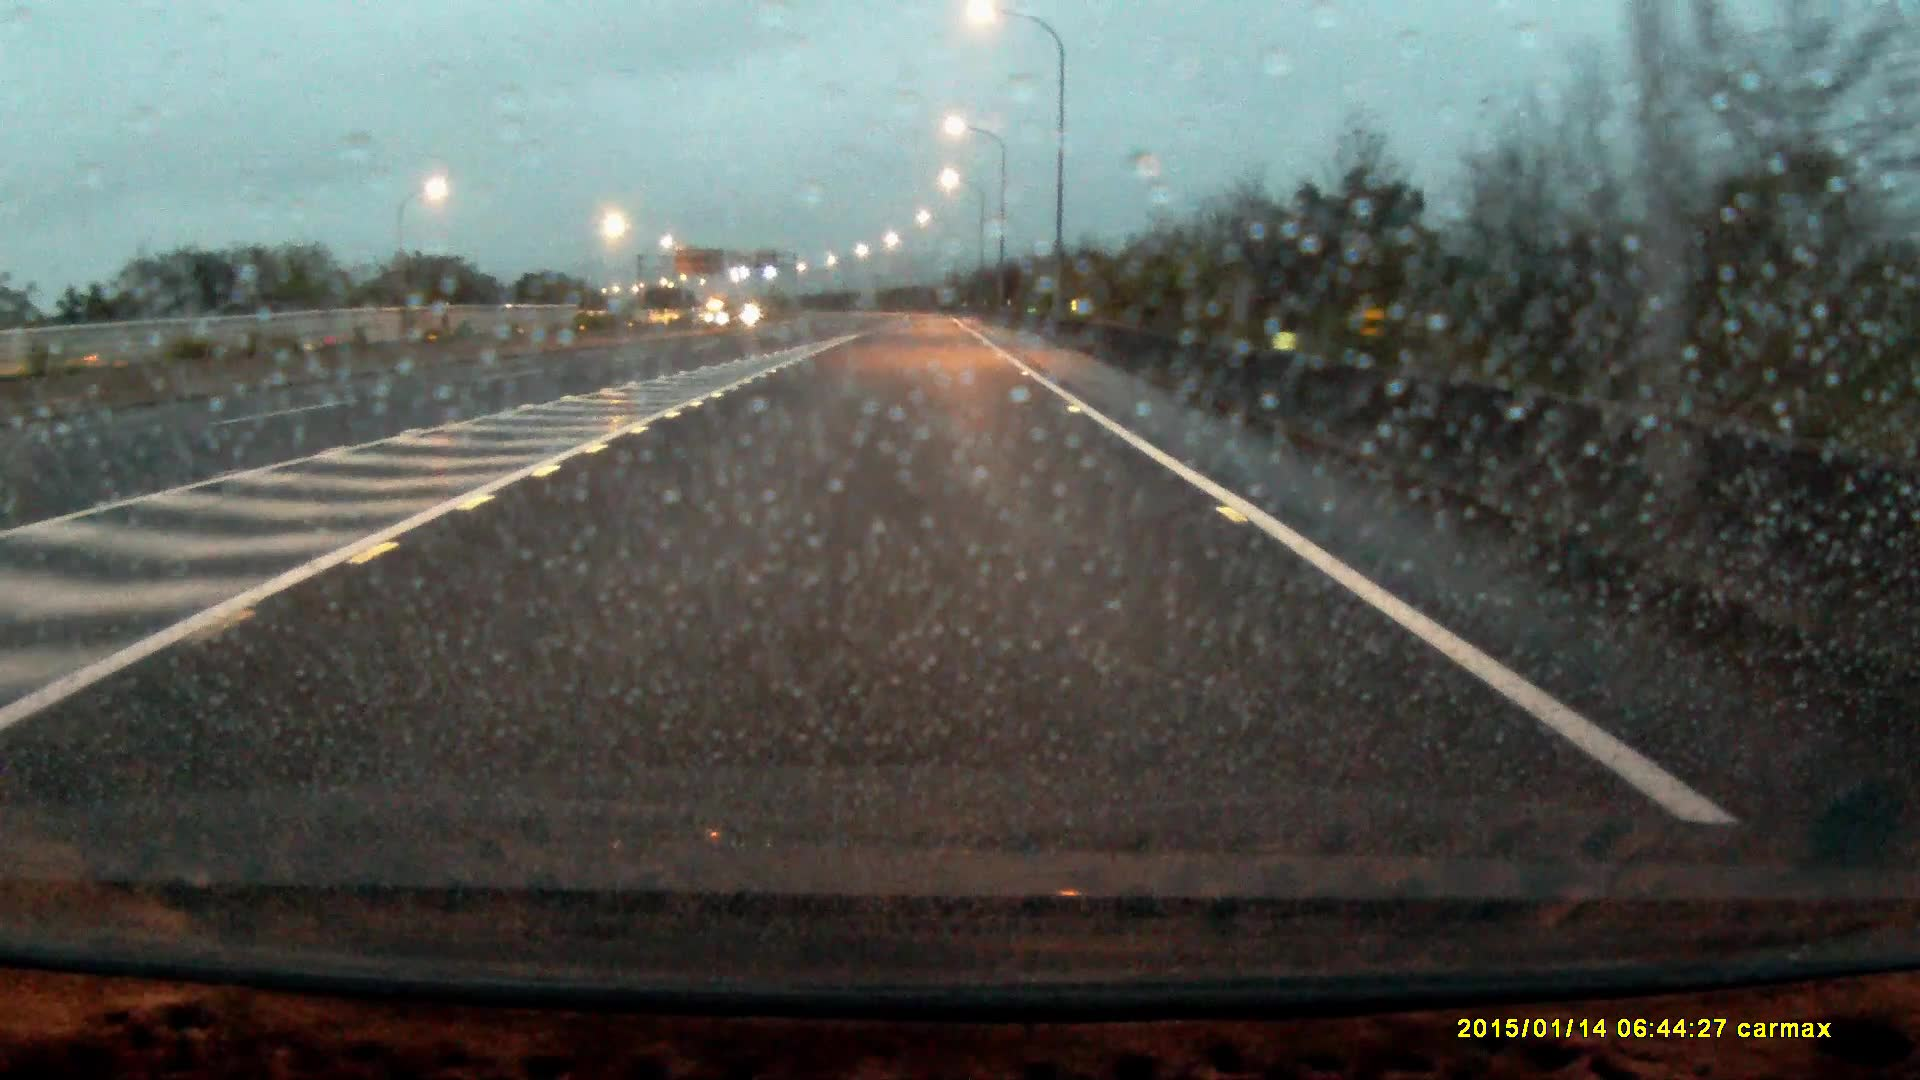vehicle: (704, 298, 733, 324)
